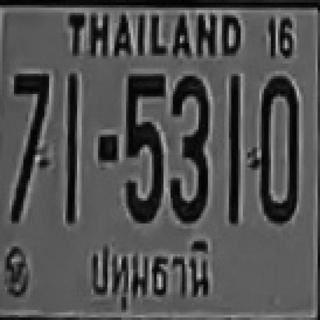N03: (168, 86, 208, 221)
N07: (12, 71, 47, 147)
P38: (85, 238, 220, 315)
